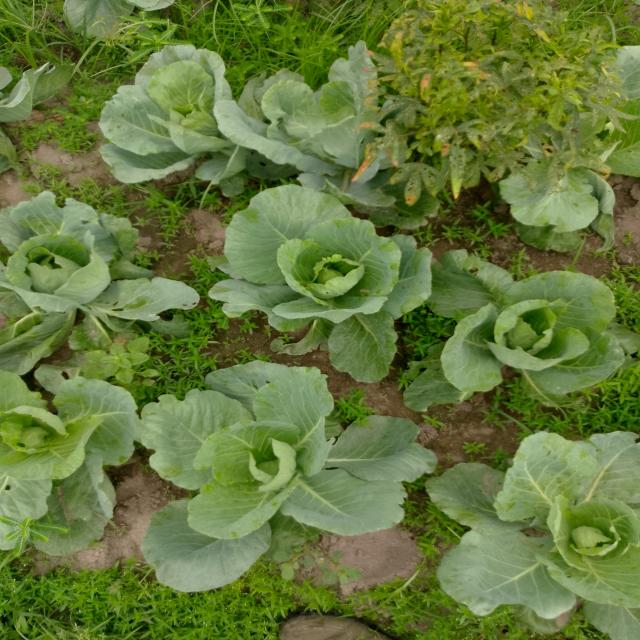Cabbage: (150, 362, 429, 606), (432, 419, 638, 632), (229, 176, 440, 366), (454, 230, 640, 420), (0, 187, 181, 362), (0, 378, 133, 571), (238, 38, 382, 176), (108, 38, 252, 172)
